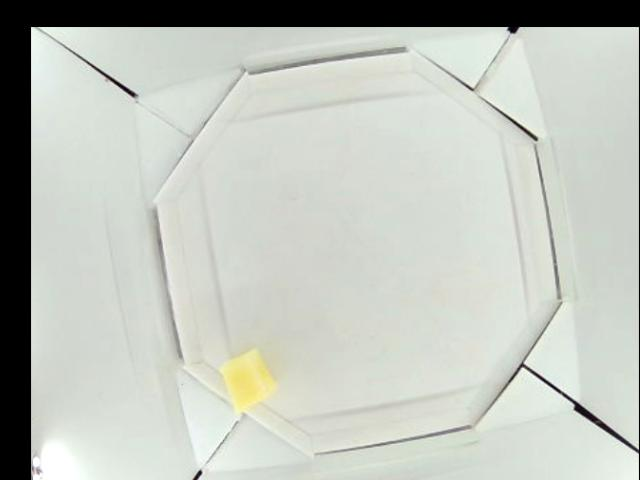Potato: (223, 347, 276, 410)
